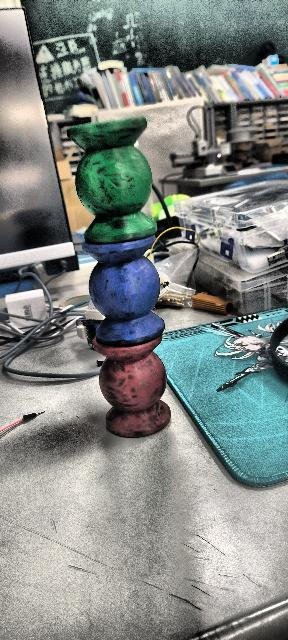blue: (81, 234, 165, 346)
green: (70, 117, 162, 246)
red: (88, 330, 177, 443)
